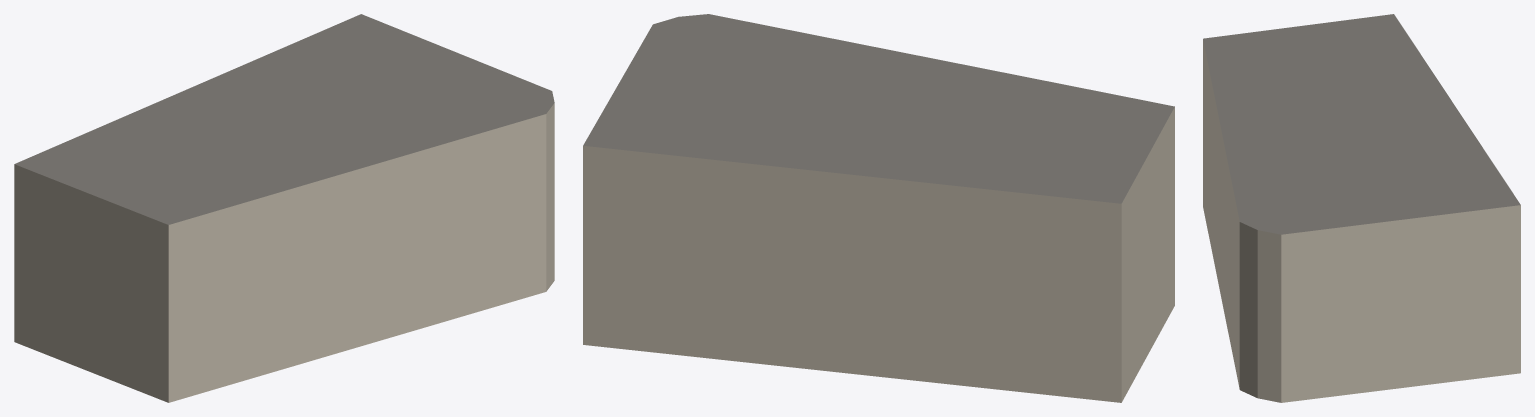
The picture shows the model from 3 angles, left to right: view 1: azimuth 30°, elevation 25°; view 2: azimuth 150°, elevation 25°; view 3: azimuth 270°, elevation 25°; orthographic projection. The views are drawn at different scales.
Visible parts, largest first — view 1: HP-w446937294; view 2: HP-w446937294; view 3: HP-w446937294.
Boxes of the visible parts, x1=… form: HP-w446937294: x1=14, y1=14, x2=554, y2=402; HP-w446937294: x1=583, y1=14, x2=1174, y2=402; HP-w446937294: x1=1203, y1=14, x2=1520, y2=402.
Size of the model in its own units: 42.2 by 15 by 25.69.
